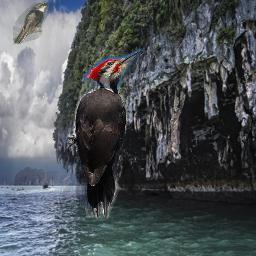Cuckoo: (13, 3, 49, 45)
Woodpecker: (59, 48, 148, 219)
